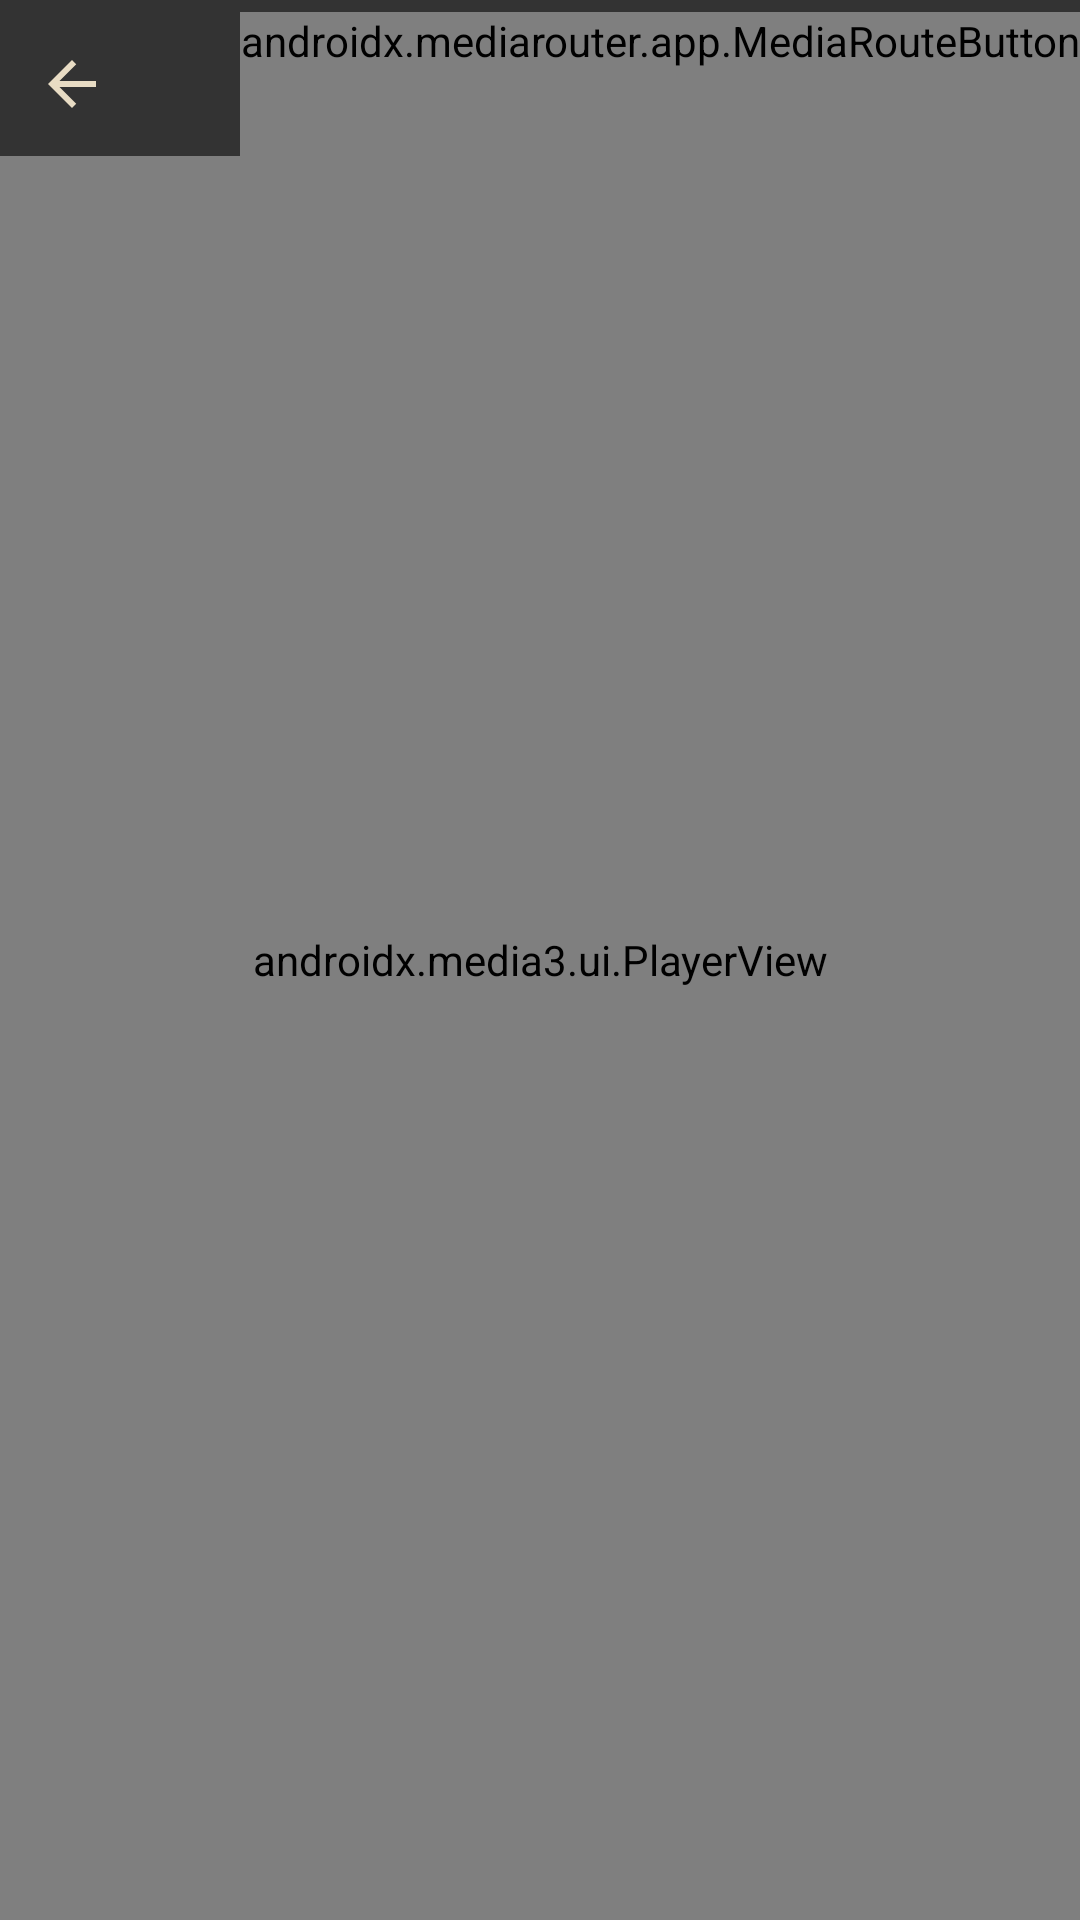

Icon bounding boxes for this 1080 x 1920 phone screenshot, format (left=x1, top=y1, right=x2, bottom=y2):
Înapoi: (left=48, top=60, right=96, bottom=108)
